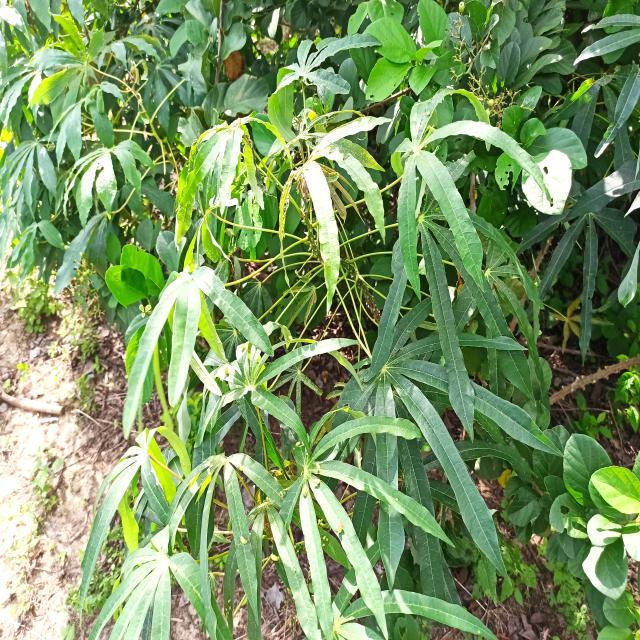Maleza: (346, 0, 565, 91), (546, 433, 640, 640), (507, 122, 592, 220), (111, 235, 154, 305)
Mosca: (300, 474, 328, 499), (142, 532, 169, 550), (338, 393, 354, 419), (482, 258, 495, 288), (234, 341, 254, 360), (234, 528, 255, 546), (330, 517, 349, 533), (219, 363, 233, 384)
